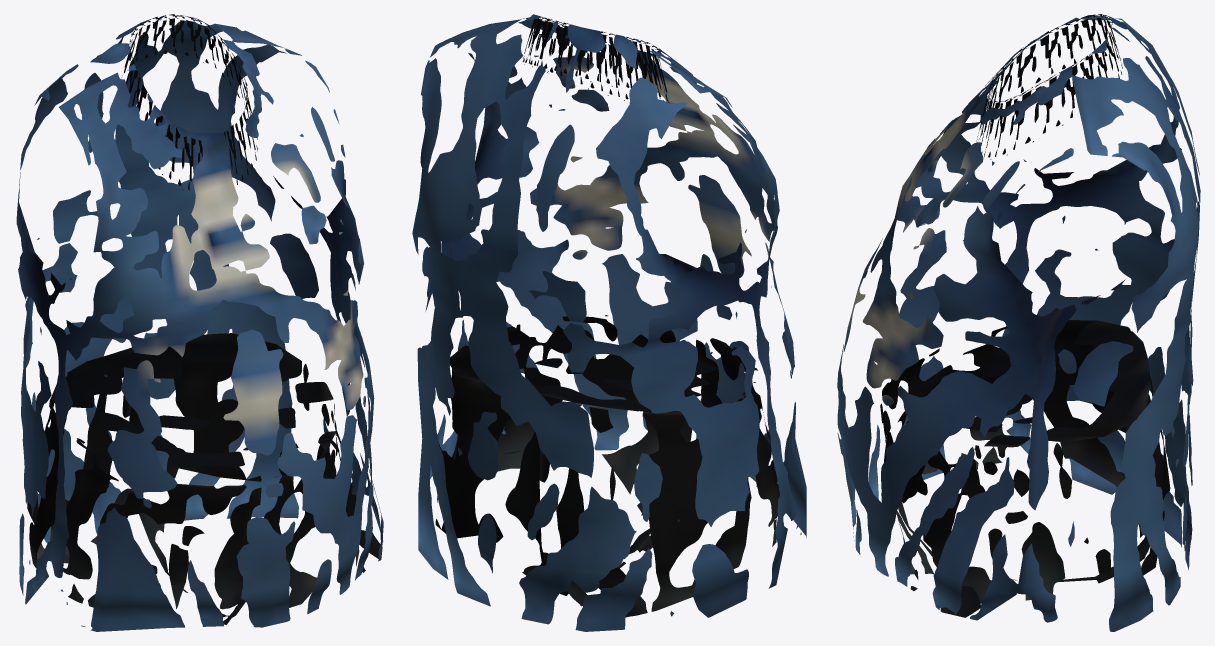
The model's file is body.obj.
3 views of the same model, side by side, from view 1: azimuth 30°, elevation 25°; view 2: azimuth 150°, elevation 25°; view 3: azimuth 270°, elevation 25° (orthographic). The views are drawn at different scales.
Parts seen in each view (by area): view 1: rdmobj00.001; view 2: rdmobj00.001; view 3: rdmobj00.001.
Boxes of the visible parts, x1=… form: rdmobj00.001: x1=16, y1=14, x2=383, y2=631; rdmobj00.001: x1=412, y1=14, x2=806, y2=631; rdmobj00.001: x1=837, y1=14, x2=1200, y2=631.
Bounding box in the file's own units: 2.04 × 3.27 × 1.93.
Materials: 1 (1 with a texture image).
